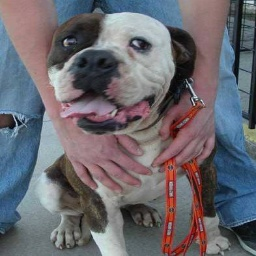dog: (19, 9, 232, 256)
